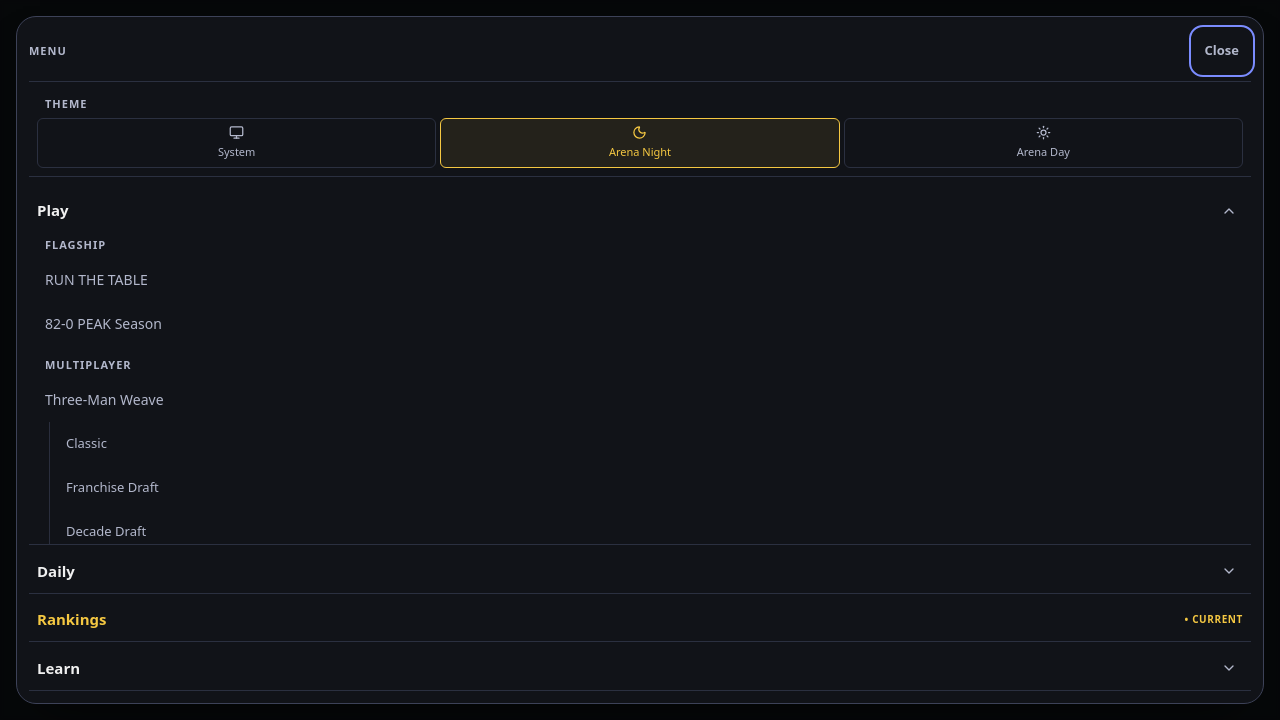
MobileNavDrawer › toggles a section and its region together
What coordinates should you click on to do the following:
click the button with test id "mobile-nav-toggle-play"
I would click on:
 (1229, 210)
Its box is [1207,188,1251,232].
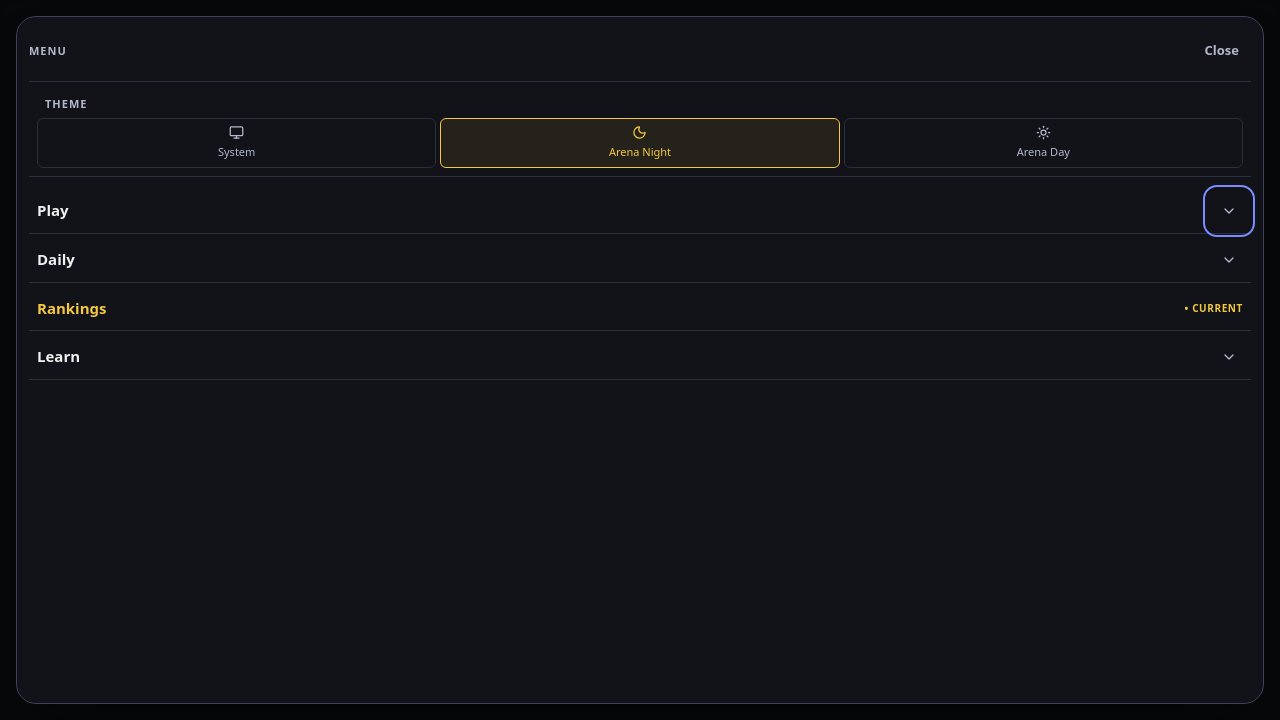
Expected: the button with test id "mobile-nav-toggle-play" is collapsed
What coordinates should you click on to do the following:
click the button with test id "mobile-nav-toggle-play"
I would click on:
 (1229, 210)
Its box is [1207,188,1251,232].
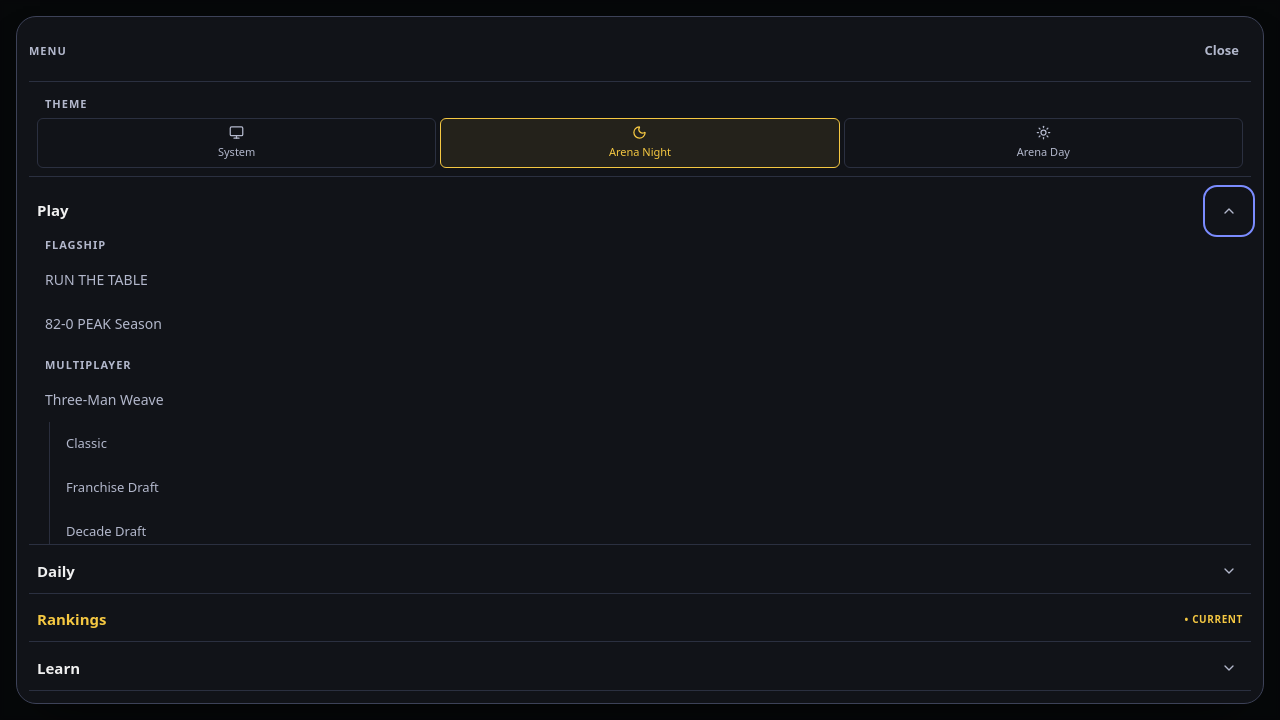
Expected: the button with test id "mobile-nav-toggle-play" is expanded, [1207,188,1251,232]
